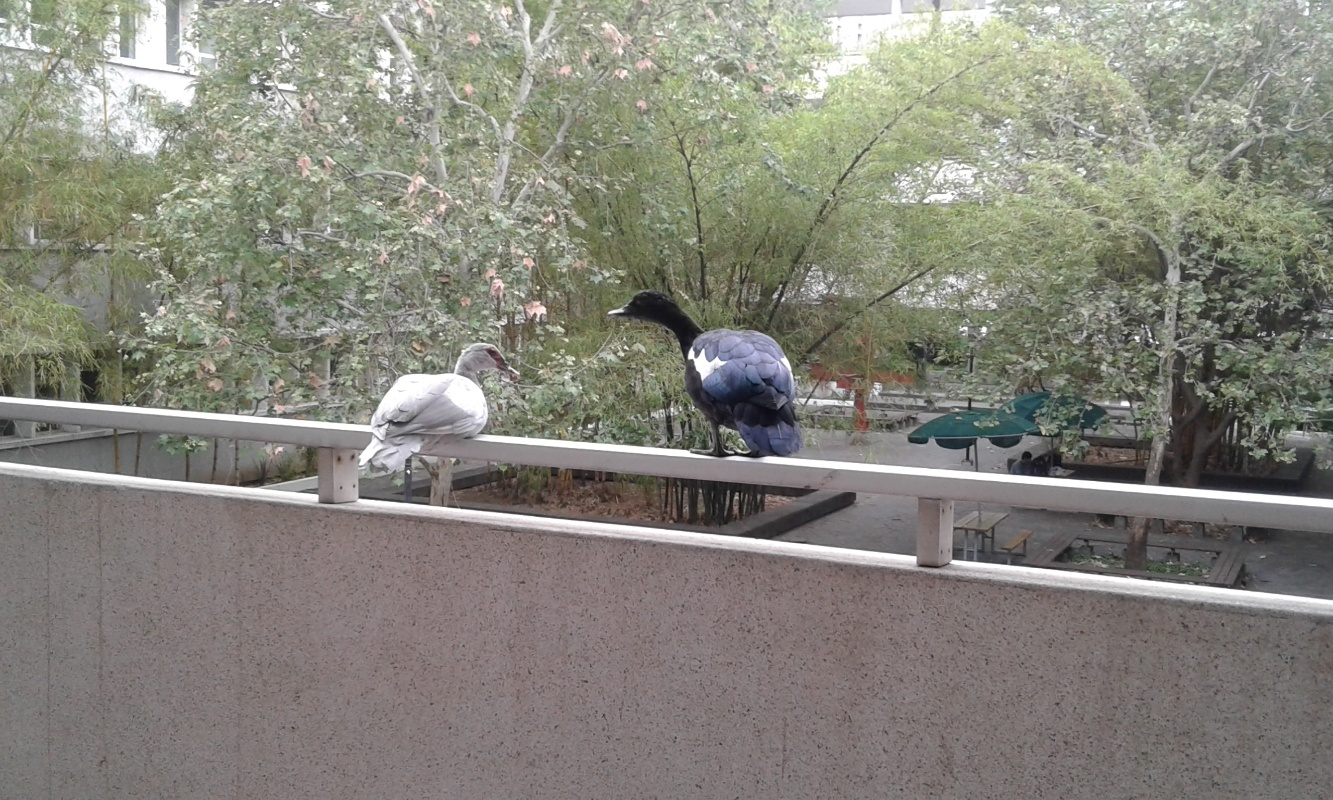pato: (617, 286, 824, 468), (364, 339, 508, 461)
